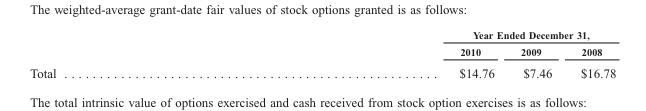table: (29, 29, 615, 80)
table column: (256, 29, 507, 80), (29, 29, 256, 80), (507, 29, 565, 80), (565, 29, 615, 80)
table column header: (29, 29, 615, 61)
table row: (29, 61, 615, 80), (29, 43, 615, 61), (29, 29, 615, 43)
table spanning cell: (256, 29, 615, 43)
